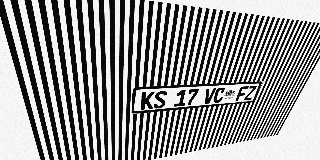plate: (131, 81, 263, 114)
